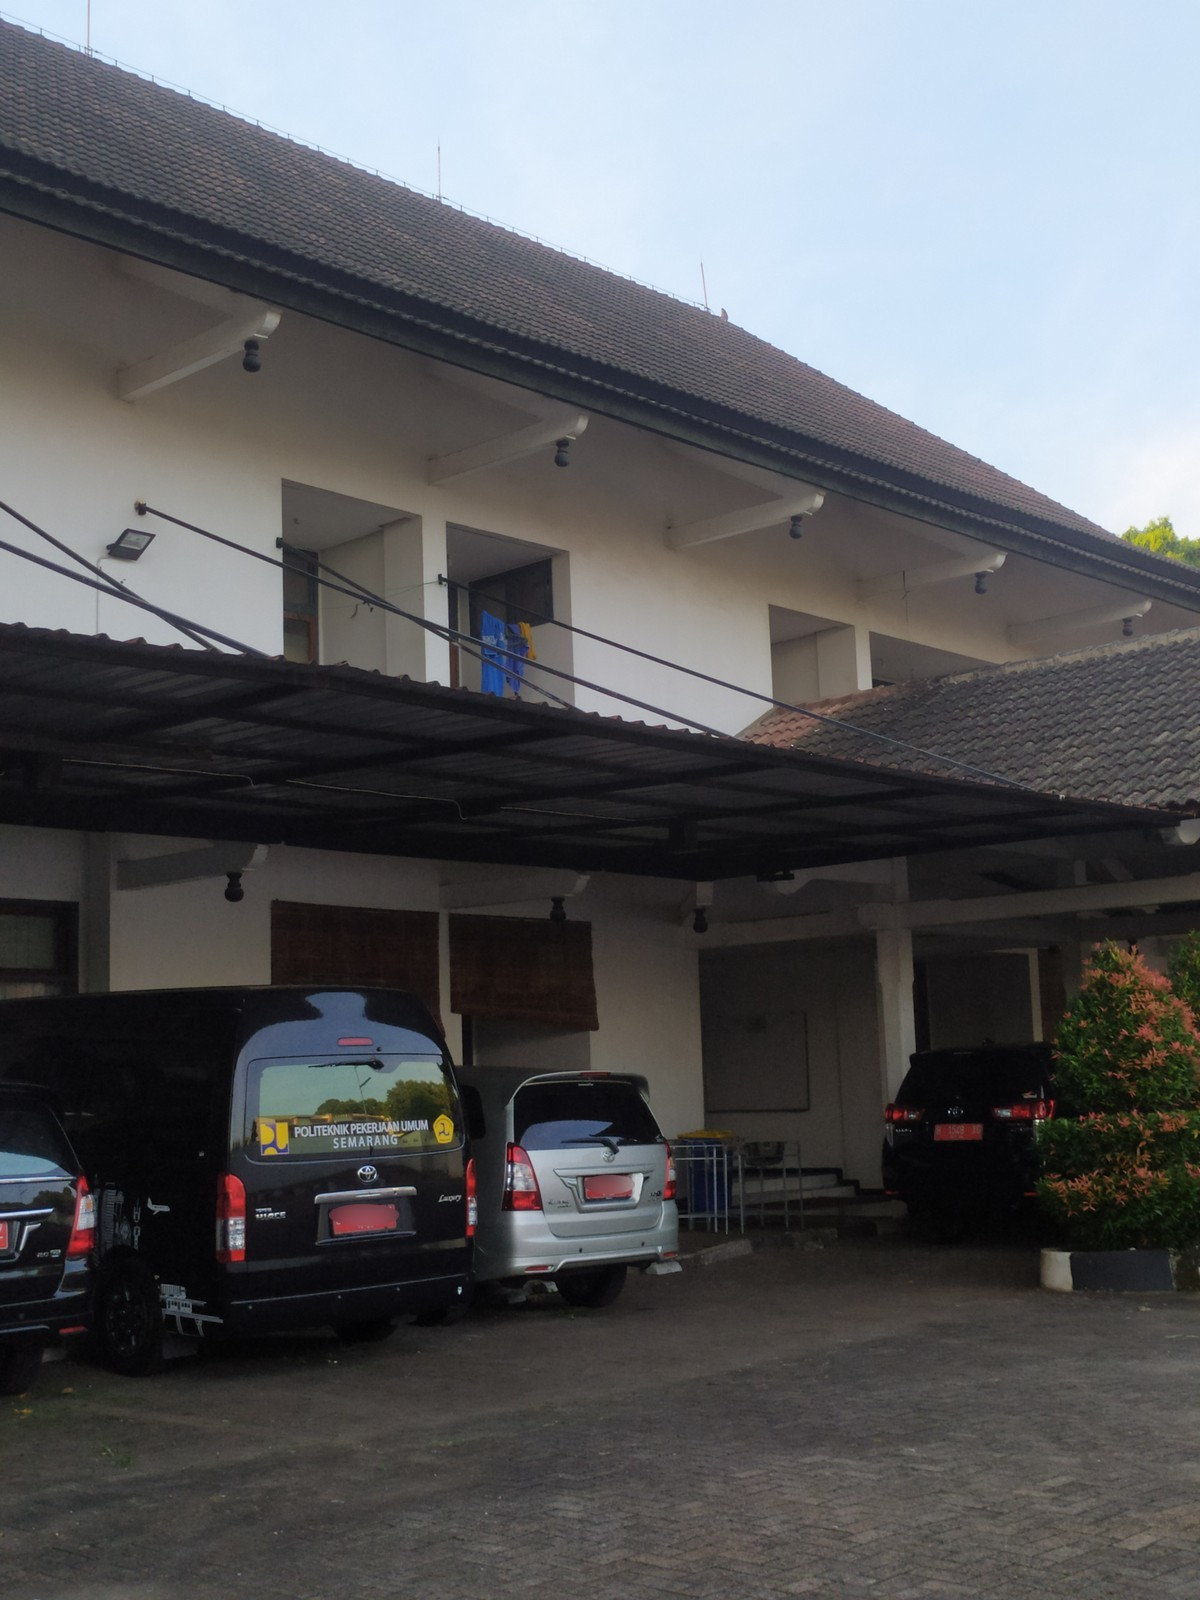concrete beam: (418, 428, 547, 489), (139, 328, 234, 401), (662, 504, 782, 554), (430, 872, 546, 913)
concrete column: (382, 511, 454, 688)
